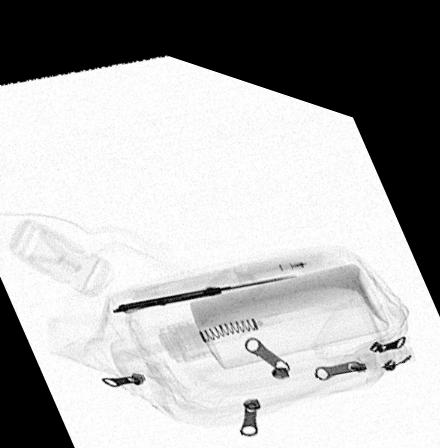Knife: (111, 256, 297, 306)
